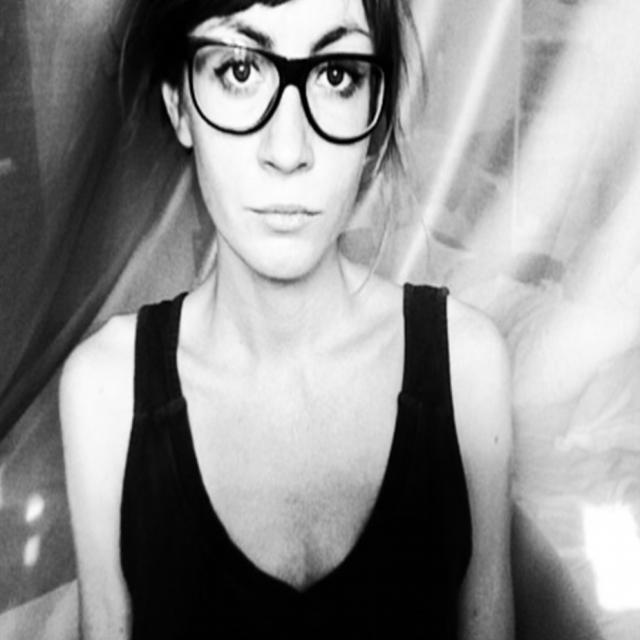Glasses: (173, 32, 394, 134)
